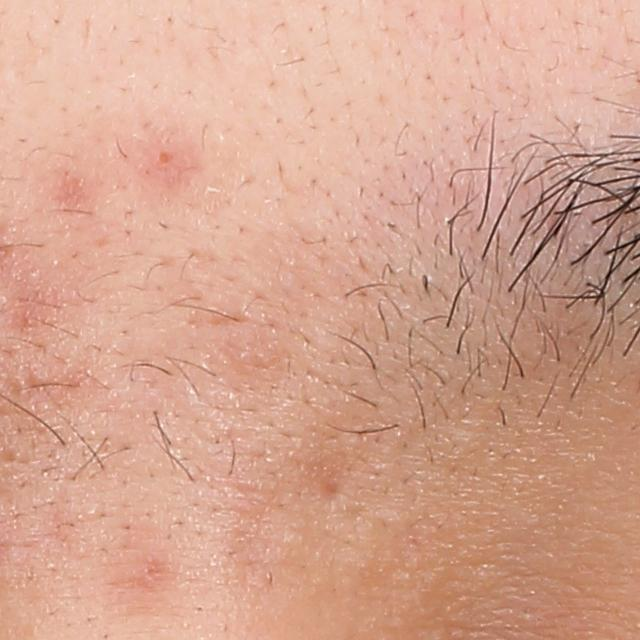papule: (153, 148, 181, 174)
